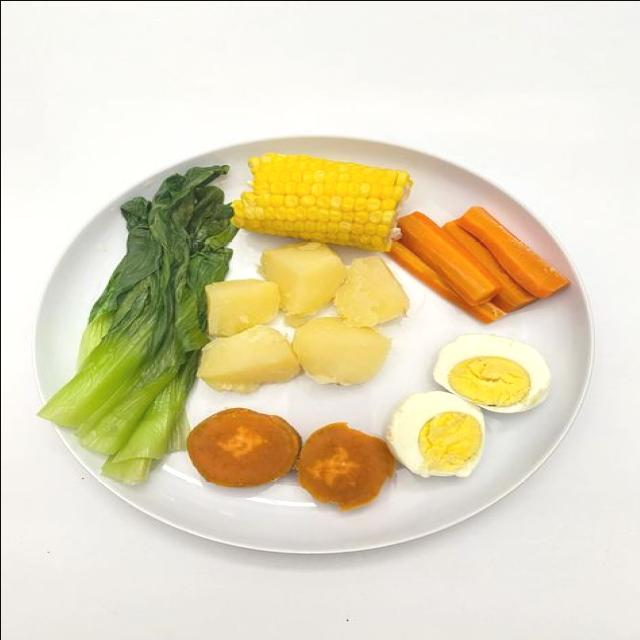kentang rebus: (257, 242, 347, 328), (196, 327, 301, 392), (293, 318, 389, 386), (332, 255, 408, 329), (204, 278, 279, 339)
telur rebus: (431, 334, 550, 415), (385, 392, 483, 480)
